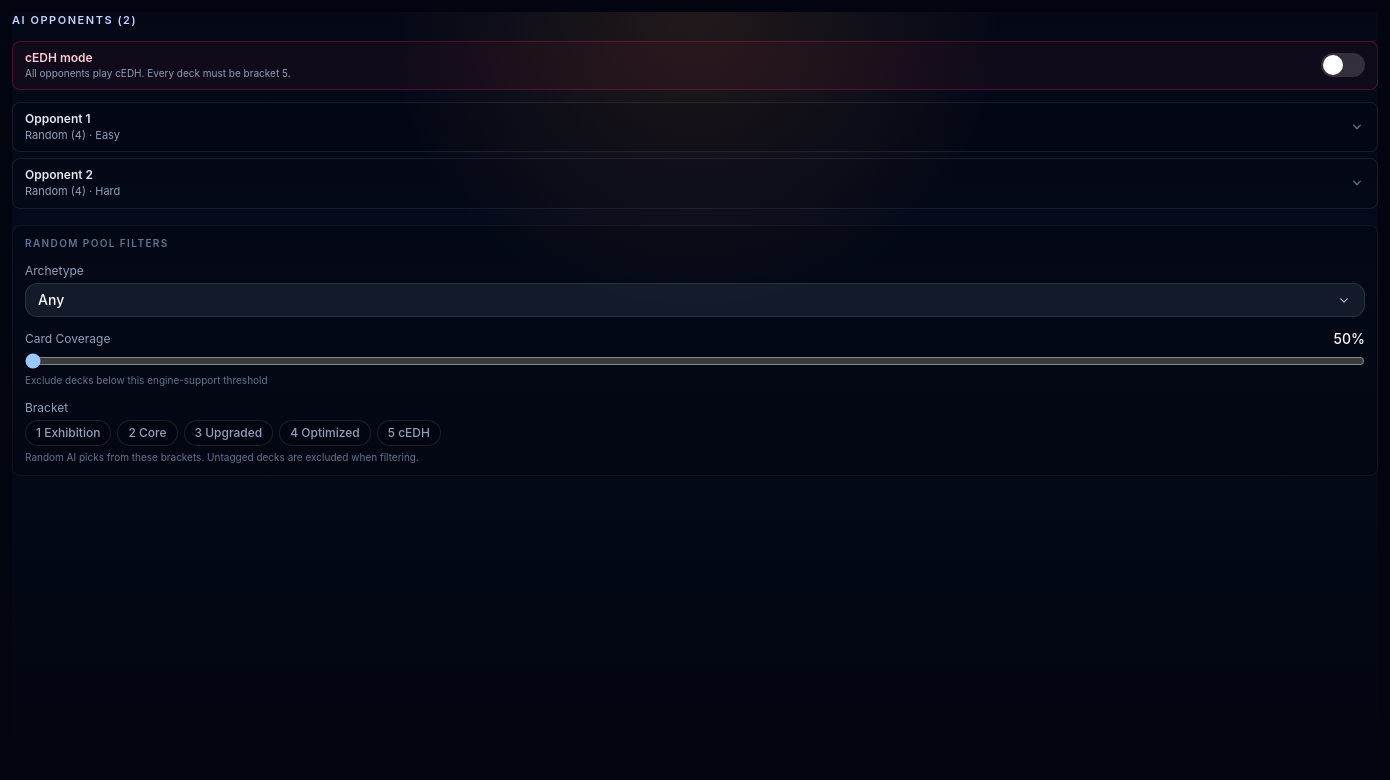
Scenario: AiOpponentConfig — cEDH toggle › per-seat difficulty changes are independent (no cascade to other seats)
Click the button "Opponent 1 Random (4) · Easy" at (58, 118), box 13,102 -> 1377,151
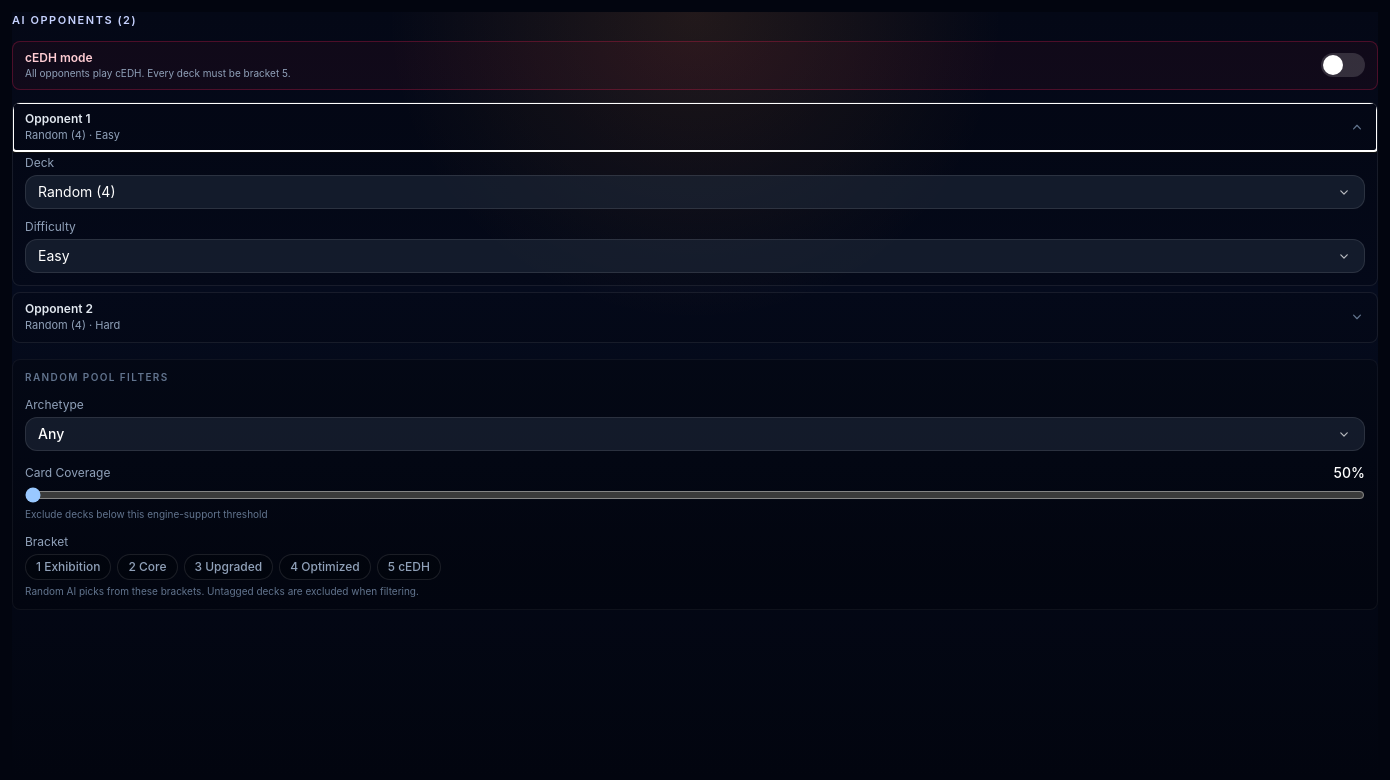
Click the button with aria-label "Difficulty" at (54, 256), box 25,239 -> 1365,273
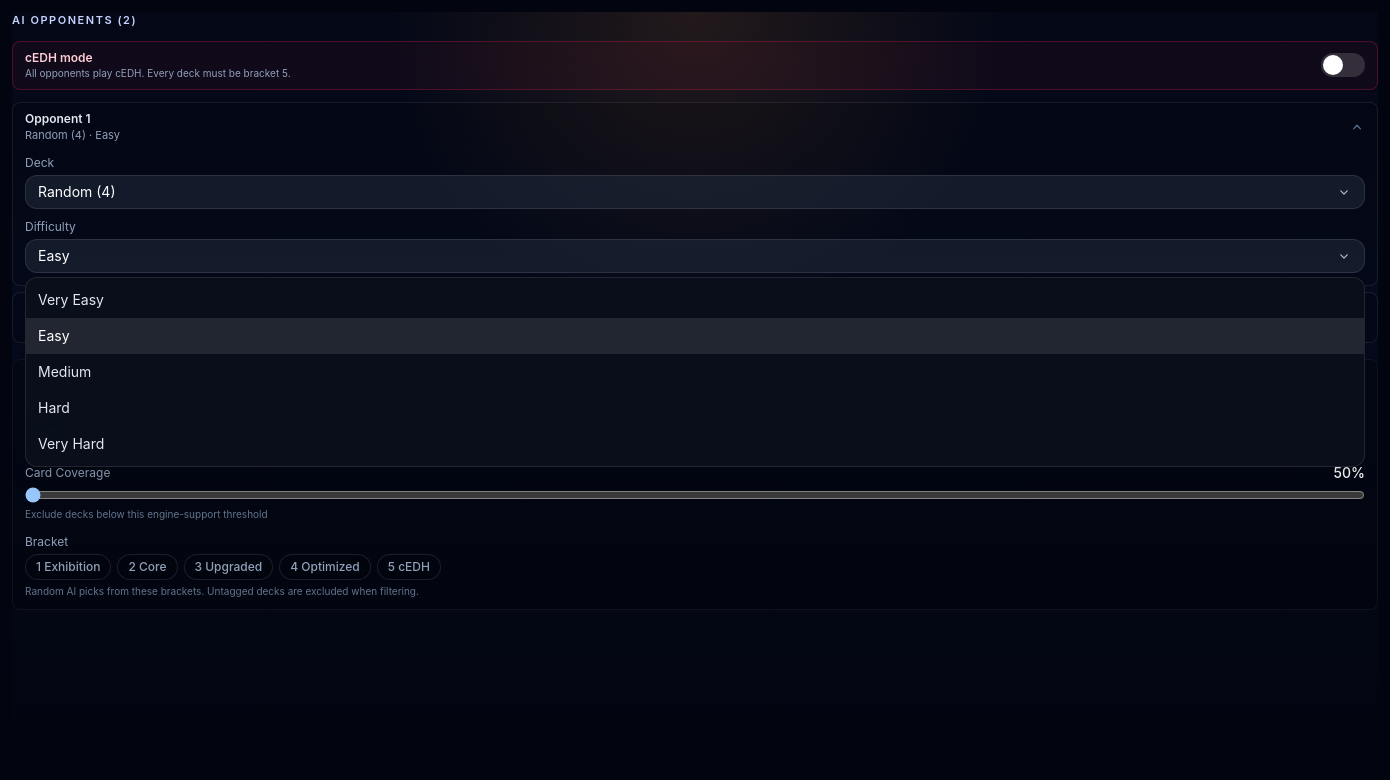
Click the option "Medium" at (65, 372), box 26,354 -> 1364,390
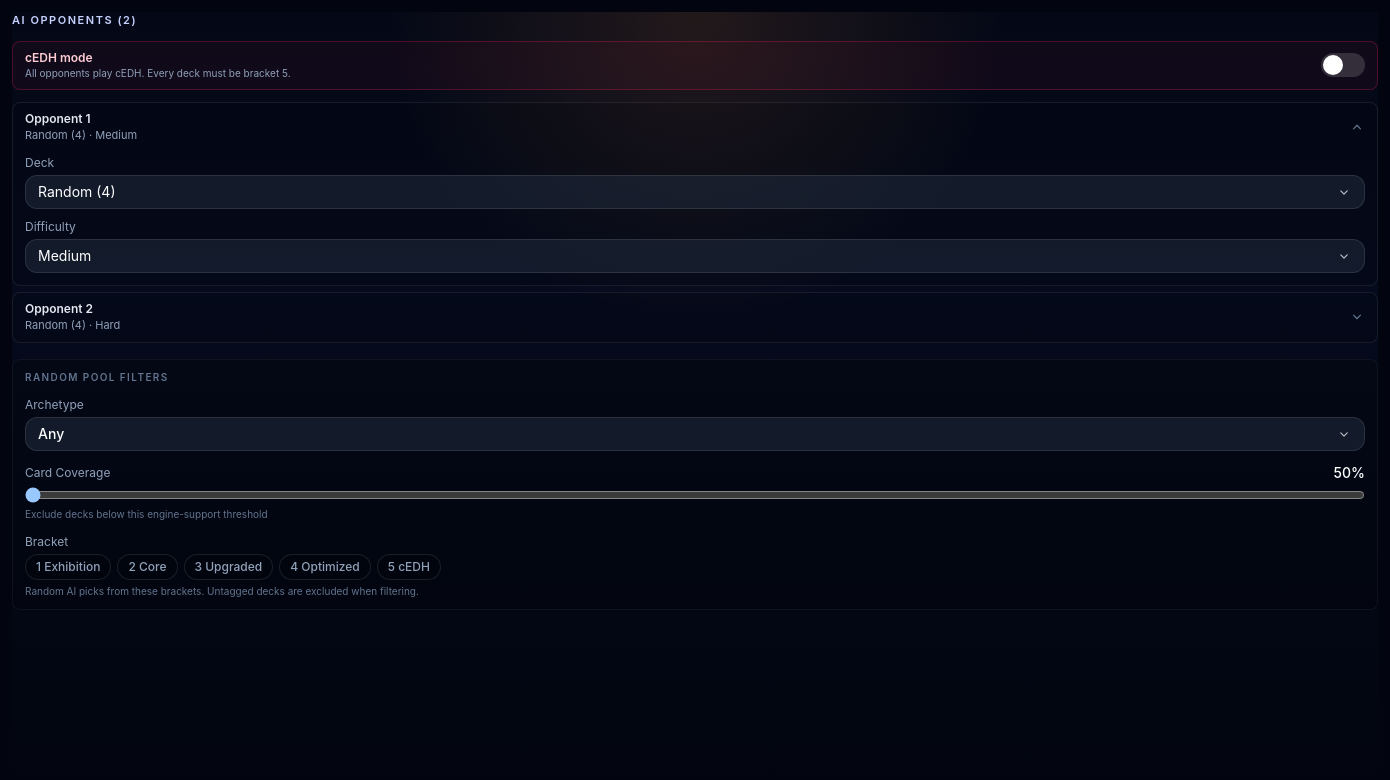
Now the text "Medium" is shown, box 38,246 -> 91,266
